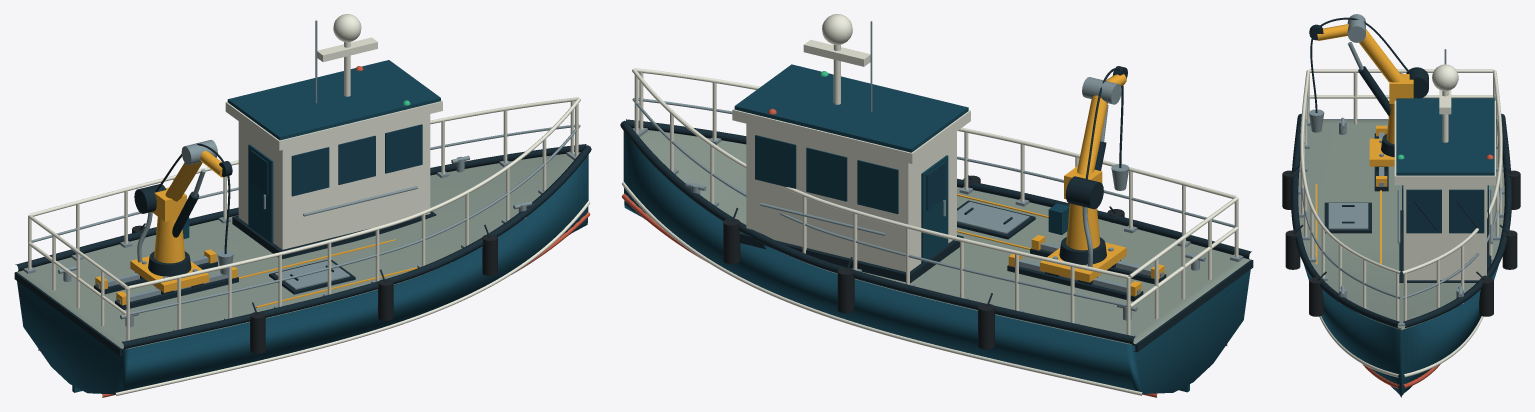
Rendered from research-vessel.glb.
The picture shows the model from 3 angles, left to right: view 1: azimuth 30°, elevation 25°; view 2: azimuth 150°, elevation 25°; view 3: azimuth 270°, elevation 25°; orthographic projection. The views are drawn at different scales.
Visible parts, largest first — view 1: Mesh_SheerFollowingDeck, Mesh_CurvedShell, Mesh_CabinBody, Mesh_RoofAccent, Mesh_Gunwale_1, Mesh_RoofOverhang, Mesh_Gunwale_-1, Mesh_ContinuousTopRail_1, Mesh_ChineRubbingStrip_1, Mesh_SideWindow_0.605_-0.72, Mesh_AftDoor, Mesh_SideWindow_0.605_0.72 (+23 smaller); view 2: Mesh_CurvedShell, Mesh_SheerFollowingDeck, Mesh_CabinBody, Mesh_RoofAccent, Mesh_Gunwale_-1, Mesh_RoofOverhang, Mesh_Gunwale_1, Mesh_ChineRubbingStrip_-1, Mesh_ContinuousTopRail_-1, Mesh_SideWindow_-0.605_-0.72, Mesh_SideWindow_-0.605_0, Mesh_SideWindow_-0.605_0.72 (+25 smaller); view 3: Mesh_SheerFollowingDeck, Mesh_RoofAccent, Mesh_CurvedShell, Mesh_CabinBody, Mesh_Gunwale_1, Mesh_Gunwale_-1, Mesh_ForwardWindshield_0.3, Mesh_ForwardWindshield_-0.3, Mesh_RoofOverhang, Mesh_SampleHatchLid, Mesh_ContinuousTopRail_1, Mesh_ContinuousTopRail_-1 (+28 smaller).
Boxes of the visible parts, bbox=[...] form: Mesh_SheerFollowingDeck: bbox=[17, 152, 580, 349]; Mesh_CurvedShell: bbox=[17, 155, 588, 394]; Mesh_CabinBody: bbox=[238, 114, 430, 249]; Mesh_RoofAccent: bbox=[227, 60, 440, 140]; Mesh_Gunwale_1: bbox=[122, 145, 591, 349]; Mesh_RoofOverhang: bbox=[225, 100, 442, 150]; Mesh_Gunwale_-1: bbox=[15, 144, 586, 271]; Mesh_ContinuousTopRail_1: bbox=[128, 97, 580, 289]; Mesh_ChineRubbingStrip_1: bbox=[116, 201, 590, 395]; Mesh_SideWindow_0.605_-0.72: bbox=[291, 147, 329, 196]; Mesh_AftDoor: bbox=[248, 144, 273, 243]; Mesh_SideWindow_0.605_0.72: bbox=[385, 124, 422, 173]; Mesh_CurvedShell: bbox=[623, 131, 1250, 393]; Mesh_SheerFollowingDeck: bbox=[632, 128, 1250, 344]; Mesh_CabinBody: bbox=[746, 123, 956, 271]; Mesh_RoofAccent: bbox=[734, 64, 968, 152]; Mesh_Gunwale_-1: bbox=[620, 120, 1135, 344]; Mesh_RoofOverhang: bbox=[732, 108, 970, 163]; Mesh_Gunwale_1: bbox=[626, 119, 1251, 259]; Mesh_ChineRubbingStrip_-1: bbox=[622, 182, 1142, 395]; Mesh_ContinuousTopRail_-1: bbox=[632, 68, 1128, 278]; Mesh_SideWindow_-0.605_-0.72: bbox=[857, 160, 898, 213]; Mesh_SideWindow_-0.605_0: bbox=[806, 147, 847, 201]; Mesh_SideWindow_-0.605_0.72: bbox=[755, 135, 796, 188]; Mesh_SheerFollowingDeck: bbox=[1298, 120, 1504, 329]; Mesh_RoofAccent: bbox=[1396, 98, 1494, 175]; Mesh_CurvedShell: bbox=[1304, 265, 1498, 397]; Mesh_CabinBody: bbox=[1403, 185, 1486, 280]; Mesh_Gunwale_1: bbox=[1291, 113, 1399, 328]; Mesh_Gunwale_-1: bbox=[1403, 113, 1511, 328]; Mesh_ForwardWindshield_0.3: bbox=[1406, 189, 1441, 233]; Mesh_ForwardWindshield_-0.3: bbox=[1449, 189, 1484, 233]; Mesh_RoofOverhang: bbox=[1394, 100, 1495, 185]; Mesh_SampleHatchLid: bbox=[1328, 203, 1368, 229]; Mesh_ContinuousTopRail_1: bbox=[1300, 70, 1400, 274]; Mesh_ContinuousTopRail_-1: bbox=[1402, 70, 1502, 274].
Bounding box in the file's own units: 8.06 × 4.3 × 3.36.
